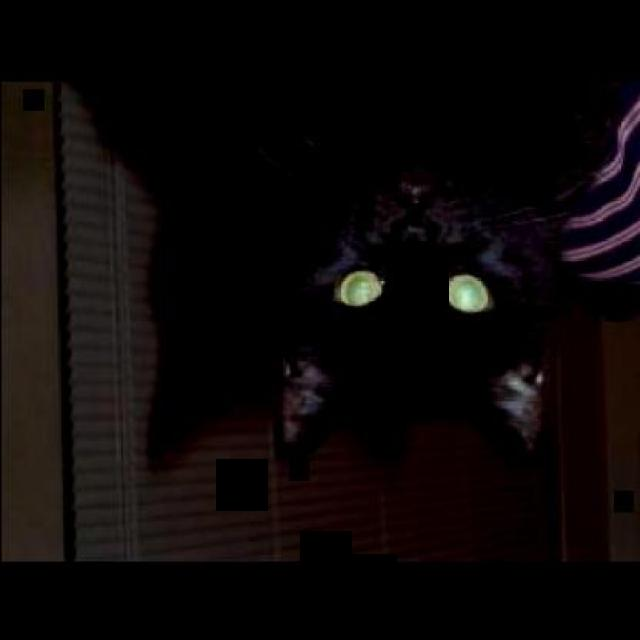unauthorized: (71, 63, 638, 479)
